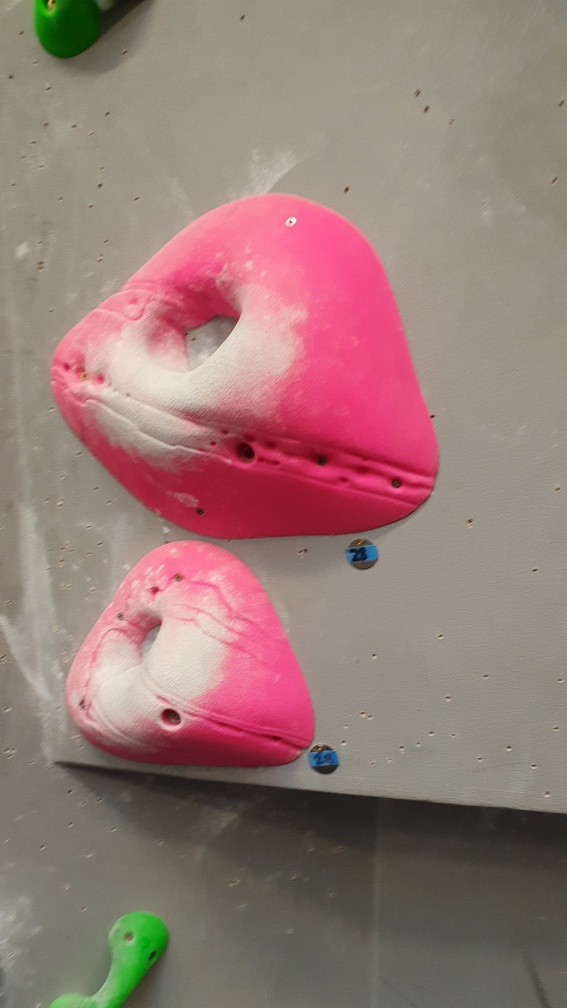Hand Start: (335, 535, 386, 578), (306, 739, 338, 777)
Pocket: (44, 189, 441, 543), (62, 541, 320, 774)
